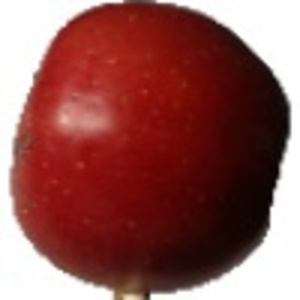maçã braeburn: (10, 1, 290, 292)
